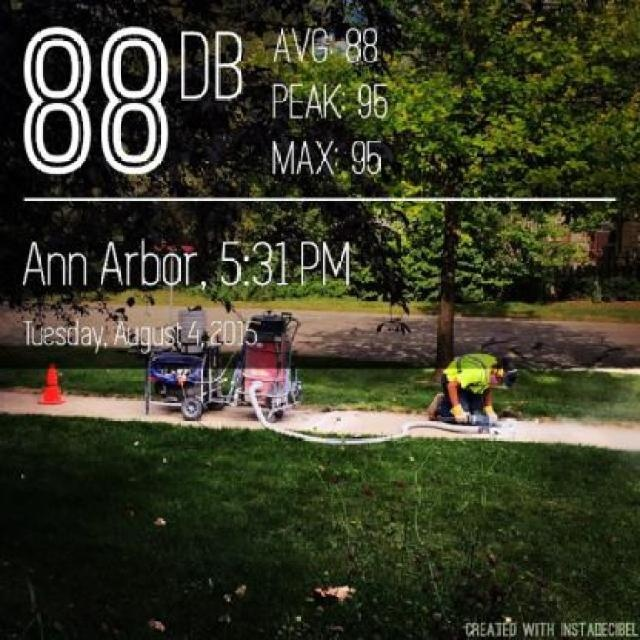obstacle: (440, 338, 502, 430)
